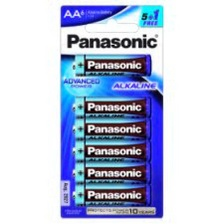battery: (71, 180, 153, 209), (71, 159, 154, 187), (70, 116, 152, 144), (71, 137, 152, 165), (70, 94, 154, 120), (70, 52, 152, 78)
book: (55, 1, 165, 220)
